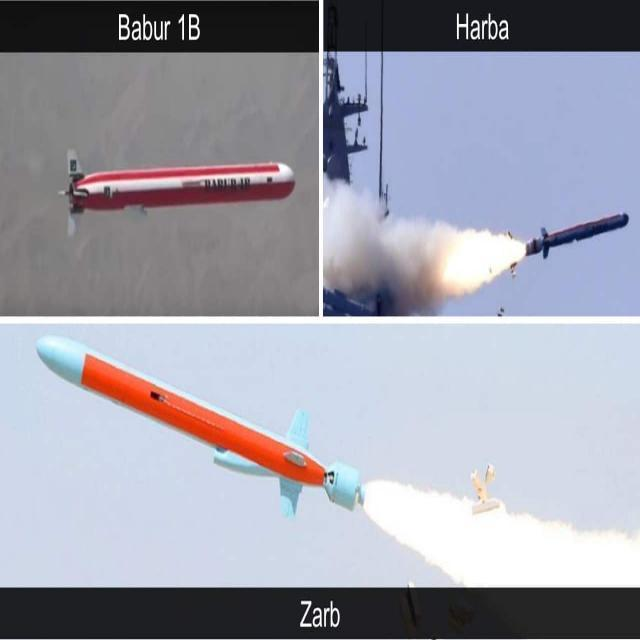Missile: (29, 331, 370, 523), (56, 144, 301, 229), (516, 199, 631, 260)
